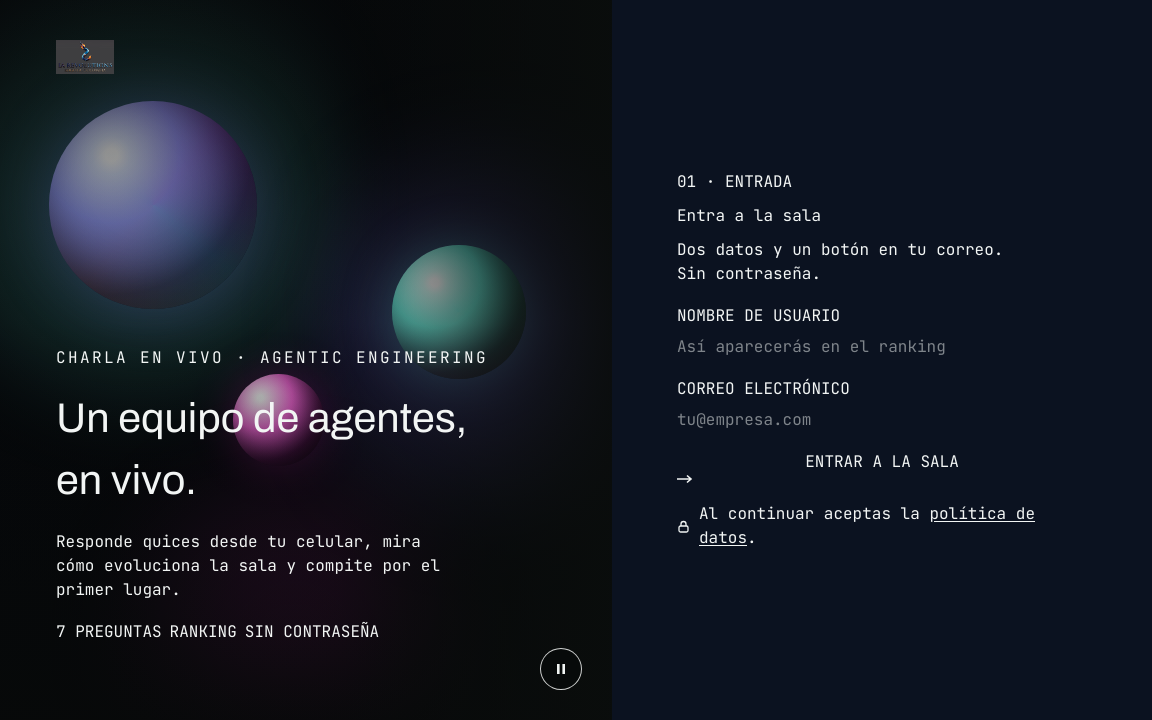
Test: Registro › shows a server error that isn't about the fields
Expected: the button with test id "charla-submit" is shown, [677, 450, 1087, 484]
Type "José P" into the field with test id "charla-username" at (882, 347), box [677, 335, 1087, 359]
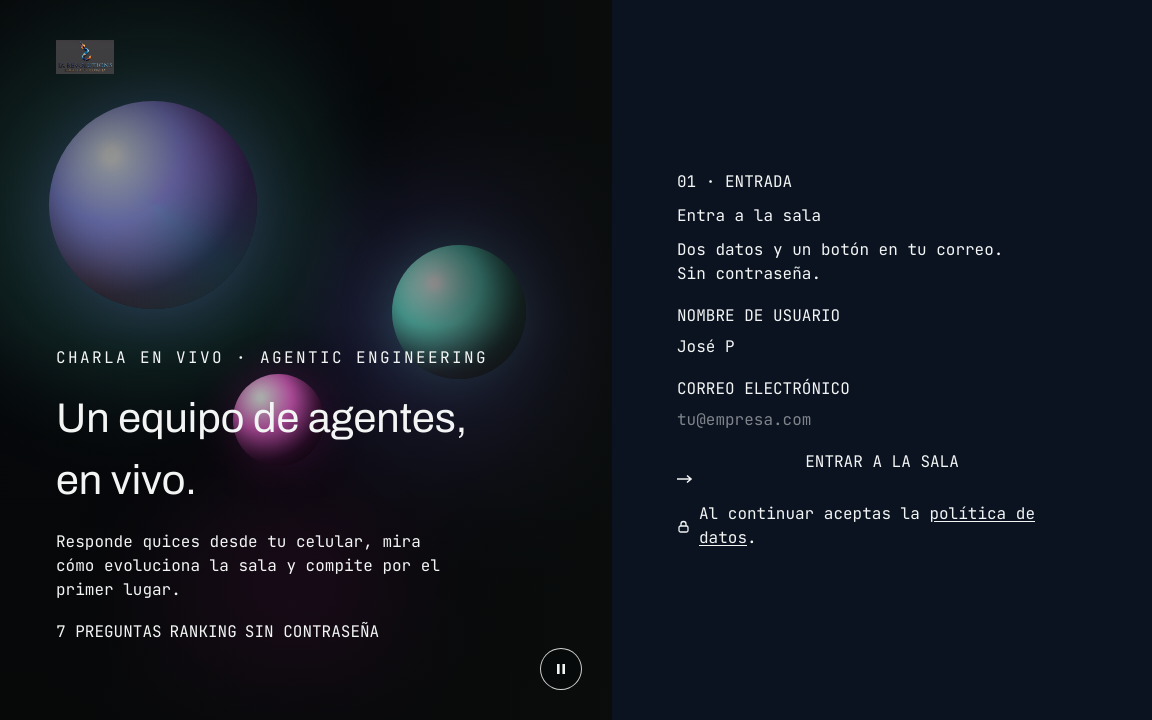
Type "jose@empresa.com" into the field with test id "charla-email" at (882, 420), box [677, 408, 1087, 432]
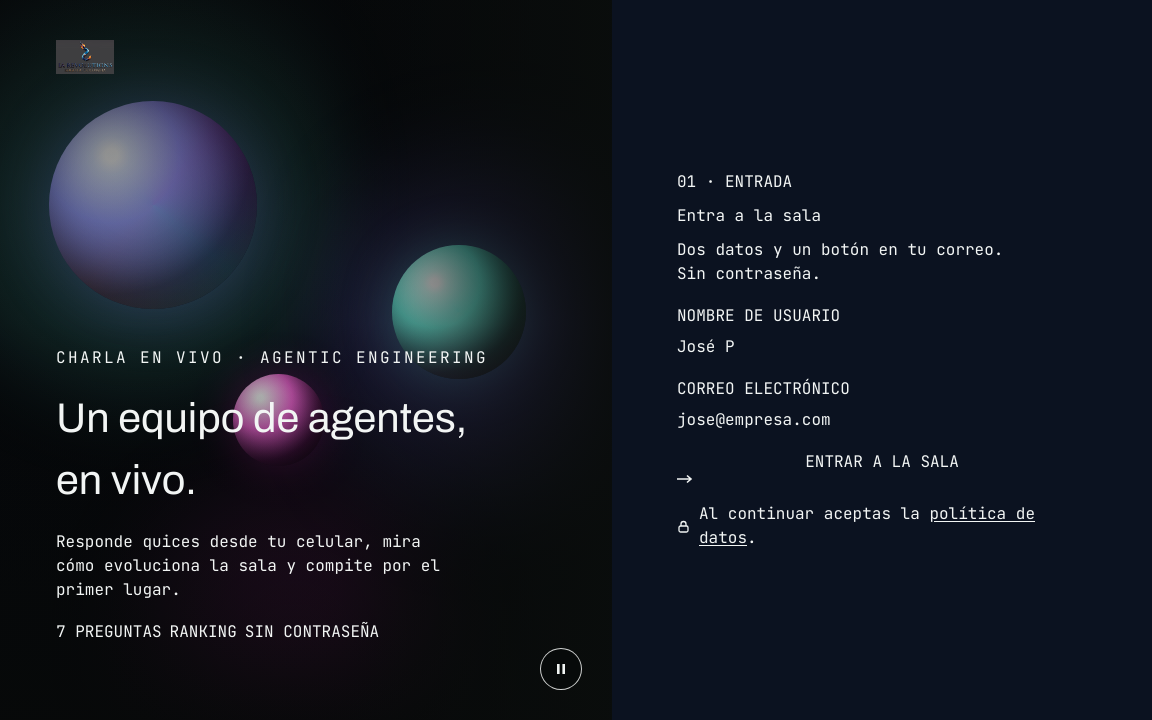
Click the button with test id "charla-submit" at (882, 467), box [677, 450, 1087, 484]
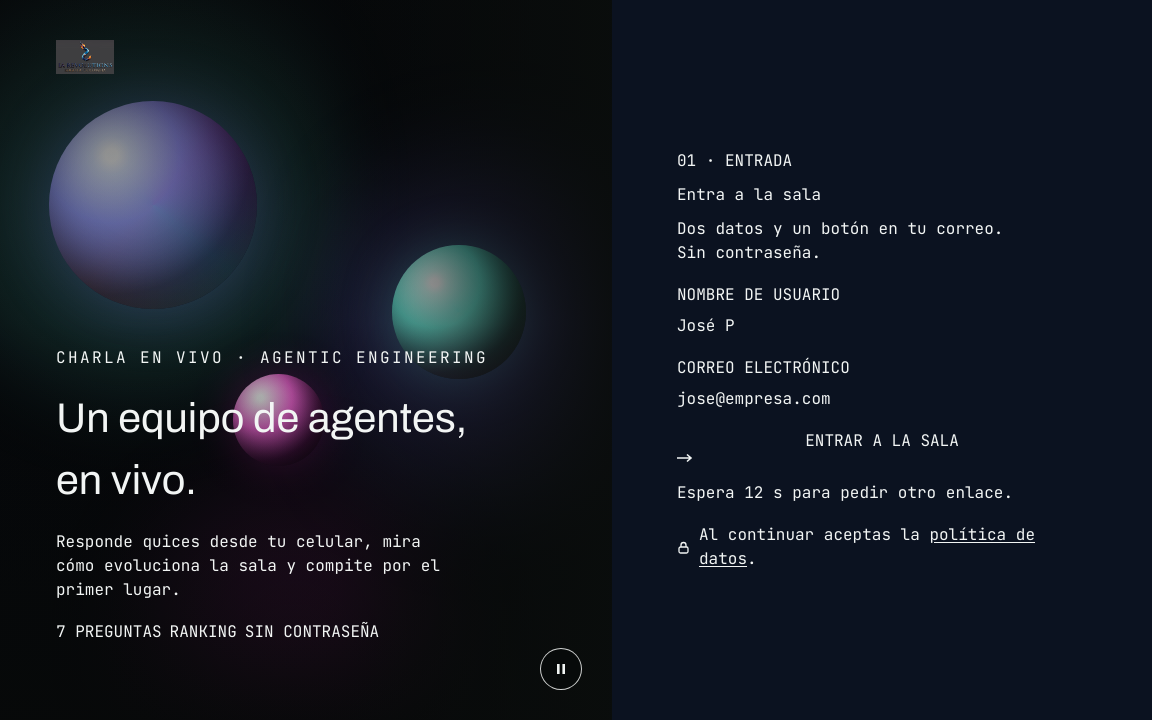
Result: the message with test id "charla-form-error" shows "Espera 12 s" at [677, 482, 1013, 503]
